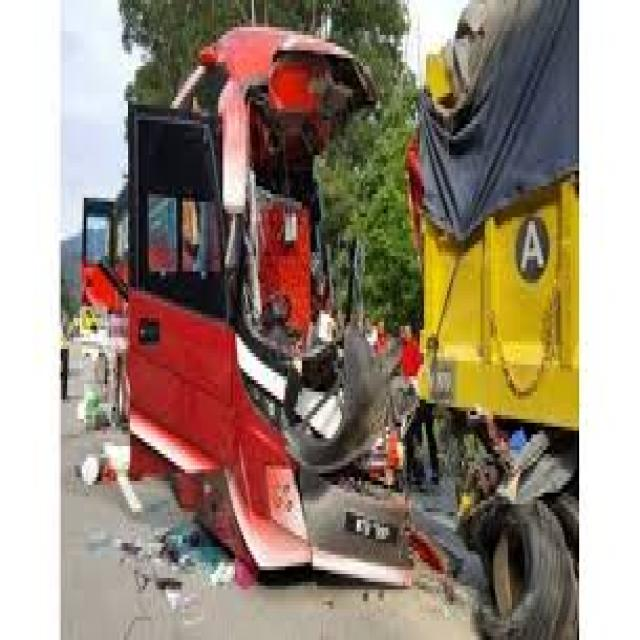accident: (101, 21, 440, 602)
